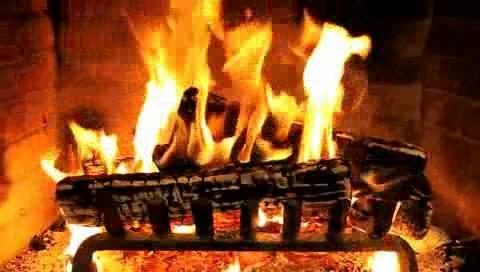fire: (18, 2, 480, 180)
